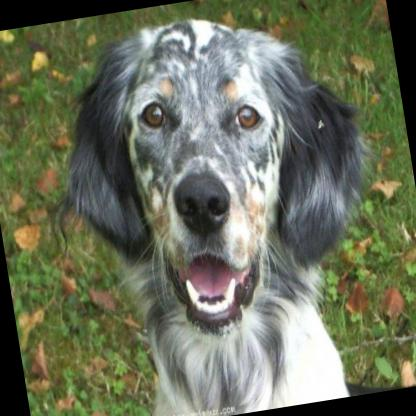English_setter: (16, 0, 416, 416)
